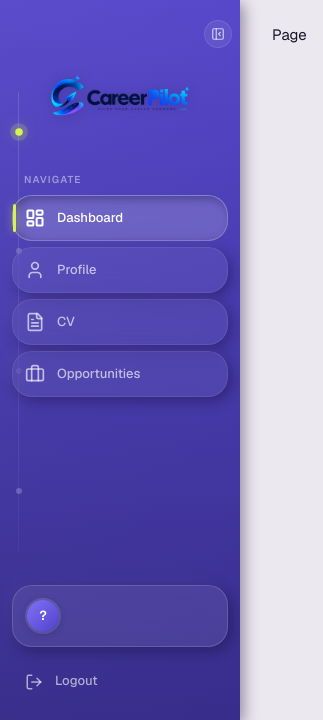
Scenario: AppShell responsive sidebar › keeps sidebar content mounted while it crossfades
expect the picture with class "sidebar-logo" is shown: met, box left=46, top=49, right=194, bottom=147
expect the number of elements with class "sidebar-nav-label" is 4: met, box left=57, top=209, right=123, bottom=226; left=57, top=261, right=96, bottom=278; left=57, top=313, right=75, bottom=330; left=57, top=365, right=140, bottom=382
Click the button named "Collapse sidebar" at [218, 34], box left=204, top=20, right=232, bottom=48
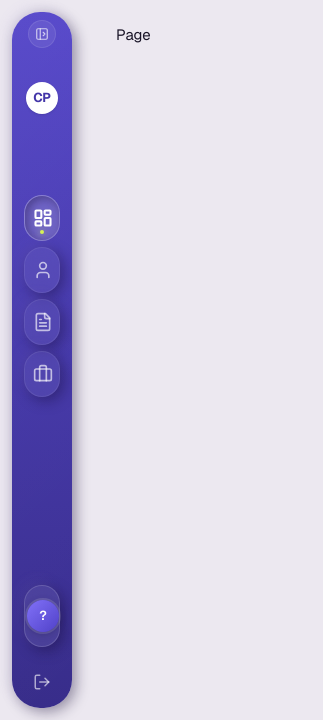
expect the text "CP" is shown: met, box left=26, top=82, right=58, bottom=114
